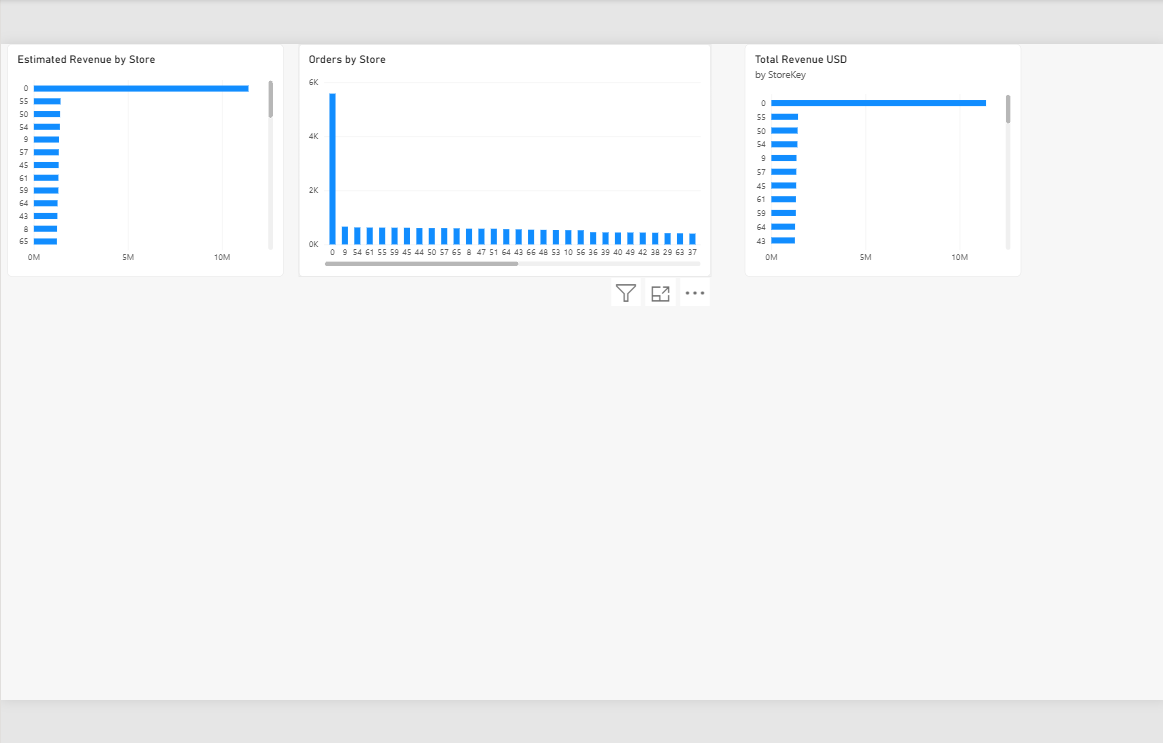

The dashboard page shown, as its layout file describes it:
{"tool":"powerbi","page":{"name":"Store & Operations","canvas":[1920,1080],"ordinal":3},"visuals":[{"type":"clusteredBarChart","title":"Estimated Revenue by Store","fields":{"Category":["Sales.StoreKey"],"Y":["Sales.Total Revenue USD"]},"box":[10.3,0,454.9,382.8],"z":0},{"type":"clusteredColumnChart","title":"Orders by Store","fields":{"Category":["Sales.StoreKey"],"Y":["Sales.Total Orders"]},"box":[489.9,0,679.2,382.8],"z":1},{"type":"clusteredBarChart","fields":{"Category":["Sales.StoreKey"],"Y":["Sales.Total Revenue USD"]},"box":[1224.7,0,455,383],"z":2}]}

Visuals, with their boxes on the page's 1920x1080 design canvas (x1, y1, x2, y2). These are canvas units, not pixel positions in the 1163x743 screenshot, which may show the page scaled, cropped or inside an application window:
"Estimated Revenue by Store" clusteredBarChart: select_region(10, 0, 465, 383)
"Orders by Store" clusteredColumnChart: select_region(490, 0, 1169, 383)
clusteredBarChart - Sales.StoreKey x Sales.Total Revenue USD: select_region(1225, 0, 1680, 383)
